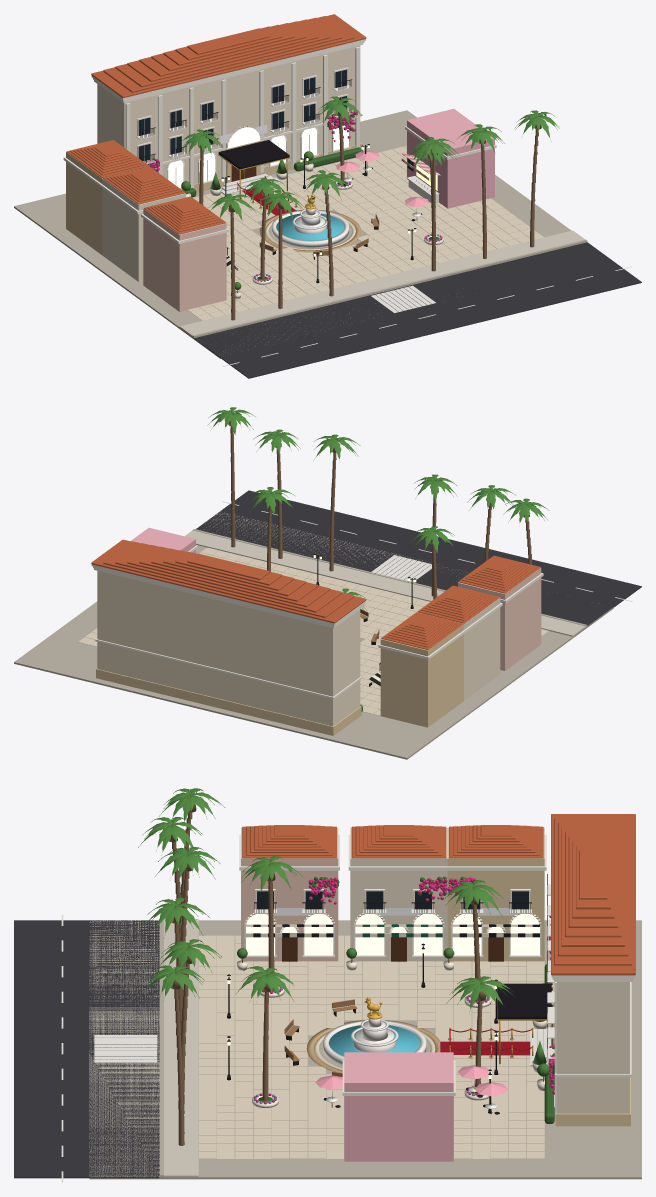
File: plaza.glb
3 renders of one model, top to bottom at view 1: azimuth 30°, elevation 25°; view 2: azimuth 150°, elevation 25°; view 3: azimuth 270°, elevation 25°, orthographic. The views are drawn at different scales.
Visible parts, largest first — view 1: VIS_BH_paving_limestone, VIS_BH_asphalt, VIS_BH_plaster_cream, VIS_BH_roof_terracotta, VIS_BH_curb, VIS_BH_trim_white, VIS_BH_plaster_blush, VIS_BH_plaster_pink, VIS_BH_sidewalk, VIS_BH_palm_leaf, VIS_BH_palm_trunk, VIS_BH_plaster_sand (+11 smaller); view 2: VIS_BH_plaster_cream, VIS_BH_asphalt, VIS_BH_roof_terracotta, VIS_BH_curb, VIS_BH_plaster_sand, VIS_BH_paving_limestone, VIS_BH_palm_leaf, VIS_BH_sidewalk, VIS_BH_plaster_blush, VIS_BH_trim_white, VIS_BH_palm_trunk, VIS_BH_paint_white (+1 smaller); view 3: VIS_BH_paving_limestone, VIS_BH_asphalt, VIS_BH_curb, VIS_BH_roof_terracotta, VIS_BH_plaster_cream, VIS_BH_plaster_pink, VIS_BH_palm_leaf, VIS_BH_trim_white, VIS_BH_sidewalk, VIS_BH_plaster_sand, VIS_BH_glass_glow, VIS_BH_plaster_blush (+18 smaller).
Part boxes in pixels (x1,y1,x2,y2): VIS_BH_paving_limestone: (188,145,543,320); VIS_BH_asphalt: (194,242,641,378); VIS_BH_plaster_cream: (97,45,360,281); VIS_BH_roof_terracotta: (66,14,366,234); VIS_BH_curb: (14,110,587,358); VIS_BH_trim_white: (63,39,496,294); VIS_BH_plaster_blush: (143,208,226,311); VIS_BH_plaster_pink: (407,108,494,208); VIS_BH_sidewalk: (179,230,584,336); VIS_BH_palm_leaf: (180,96,559,220); VIS_BH_palm_trunk: (199,116,538,320); VIS_BH_plaster_sand: (66,135,361,254); VIS_BH_plaster_cream: (97,571,500,726); VIS_BH_asphalt: (196,490,641,625); VIS_BH_roof_terracotta: (91,539,540,649); VIS_BH_curb: (14,511,613,759); VIS_BH_plaster_sand: (96,624,463,735); VIS_BH_paving_limestone: (78,547,548,715); VIS_BH_palm_leaf: (207,407,549,610); VIS_BH_sidewalk: (185,530,585,636); VIS_BH_plaster_blush: (458,568,541,670); VIS_BH_trim_white: (91,545,543,710); VIS_BH_palm_trunk: (230,426,532,599); VIS_BH_paint_white: (222,501,632,601); VIS_BH_paving_limestone: (199,935,544,1158); VIS_BH_asphalt: (14,920,159,1178); VIS_BH_curb: (89,919,641,1179); VIS_BH_roof_terracotta: (242,814,635,975); VIS_BH_plaster_cream: (350,827,629,1113); VIS_BH_plaster_pink: (344,1052,453,1161); VIS_BH_palm_leaf: (138,788,514,1011); VIS_BH_trim_white: (239,834,635,1118); VIS_BH_sidewalk: (162,919,198,1177); VIS_BH_plaster_sand: (447,827,630,1126); VIS_BH_glass_glow: (246,914,539,955); VIS_BH_plaster_blush: (241,827,338,961).
Size of the model in its own units: 52.2 by 16.46 by 51.7.
